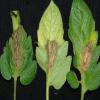Tomato mold leaf: (36, 2, 72, 97), (1, 2, 35, 99), (68, 2, 99, 99)
